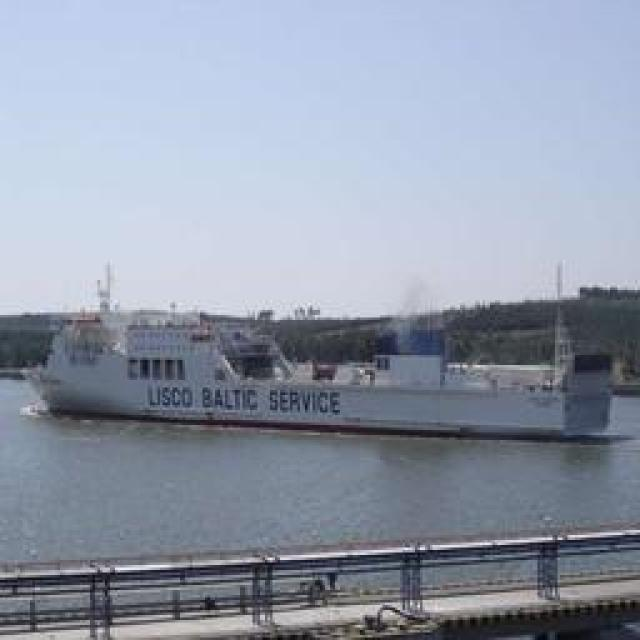ship2: (36, 255, 615, 445)
